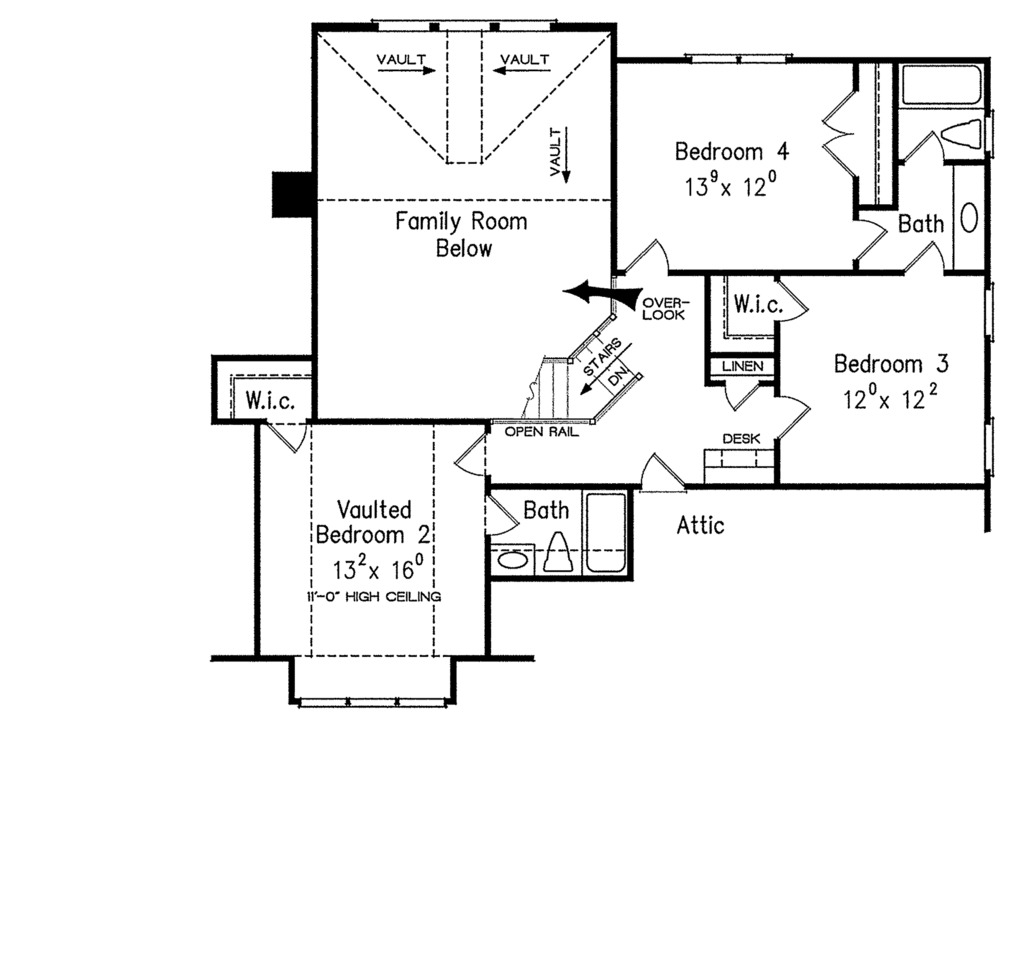door: (808, 75, 857, 186), (479, 489, 526, 544), (635, 453, 691, 496), (624, 232, 681, 274), (450, 429, 499, 475), (769, 387, 812, 436), (903, 233, 950, 277), (721, 371, 767, 412), (896, 130, 944, 169), (267, 420, 314, 457), (770, 278, 809, 321), (851, 214, 885, 257)
large_sink: (930, 111, 993, 157), (537, 520, 582, 581)
small_sink: (947, 172, 987, 271), (484, 538, 542, 580)
stairs: (505, 309, 647, 423)
tub: (579, 487, 636, 577), (893, 59, 997, 108)
window: (366, 12, 566, 36), (305, 696, 448, 715), (672, 48, 790, 68), (981, 409, 1000, 477), (982, 283, 996, 342)
